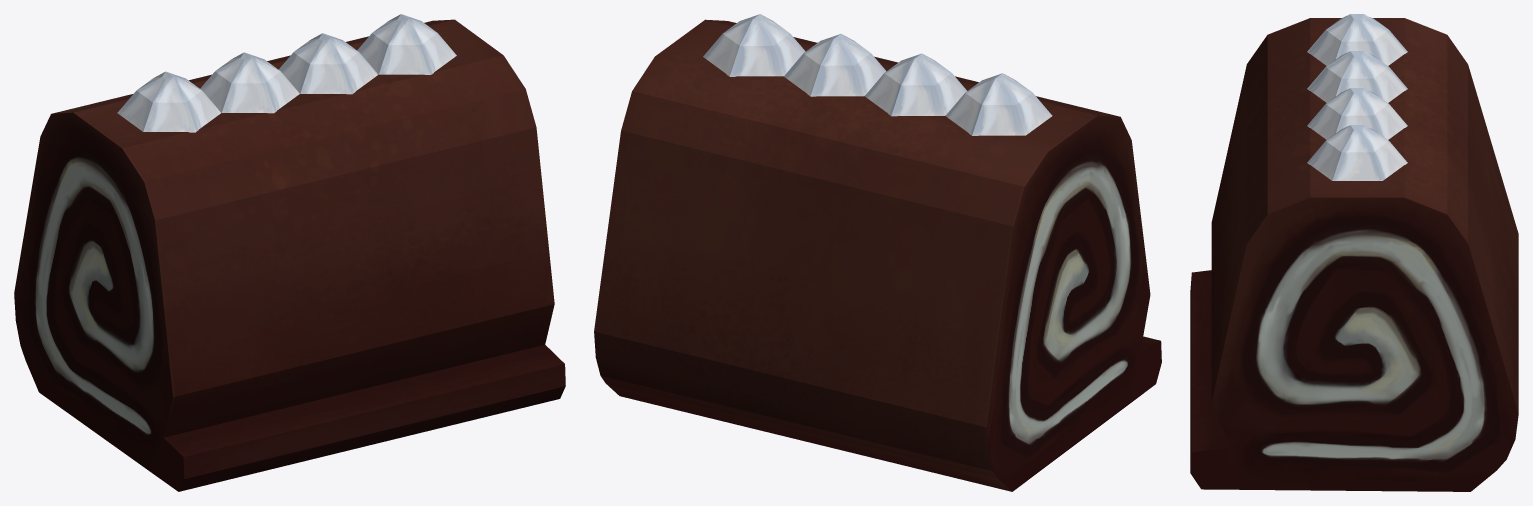
The model's file is 2tier_3.glb.
3 renders of one model, left to right at view 1: azimuth 30°, elevation 25°; view 2: azimuth 150°, elevation 25°; view 3: azimuth 270°, elevation 25°, orthographic. The views are drawn at different scales.
Size of the model in its own units: 0.9889 by 0.8513 by 0.7636.
Materials: 2 (2 with a texture image).
